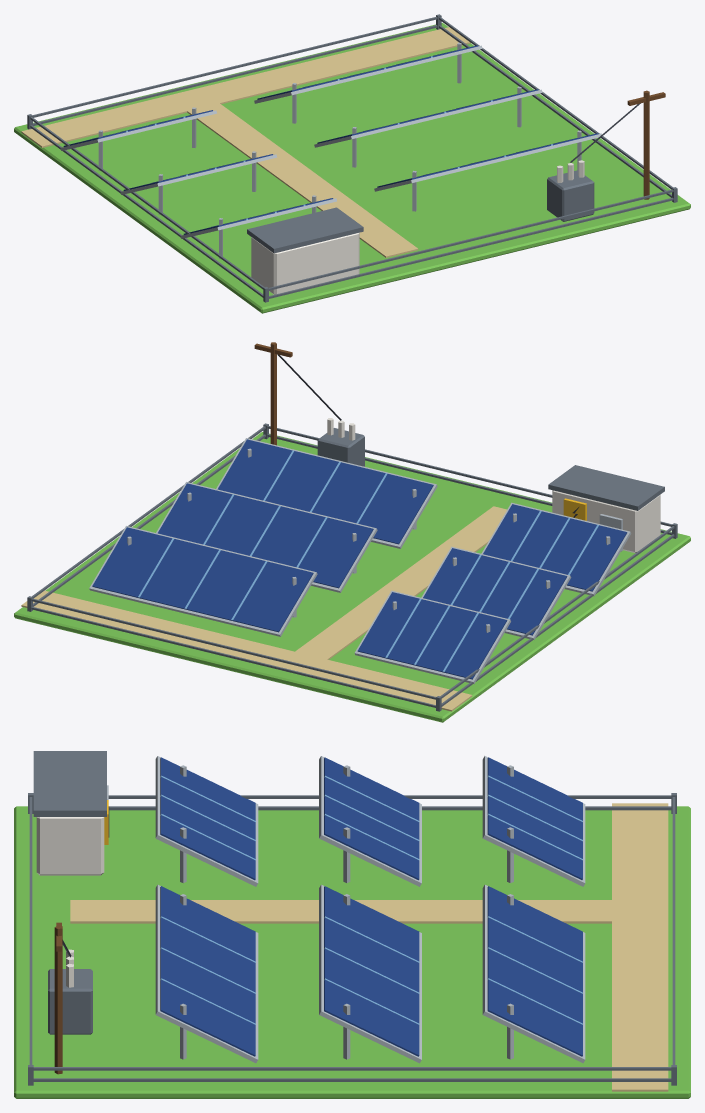
The model's file is solar_farm.glb.
The picture shows the model from 3 angles, top to bottom: view 1: azimuth 30°, elevation 25°; view 2: azimuth 150°, elevation 25°; view 3: azimuth 270°, elevation 25°; orthographic projection. The views are drawn at different scales.
Visible parts, largest first — view 1: corpo; view 2: corpo; view 3: corpo.
Boxes of the visible parts, bbox=[...] form: corpo: bbox=[14, 14, 690, 313]; corpo: bbox=[14, 342, 690, 722]; corpo: bbox=[14, 751, 690, 1098].
Size of the model in its own units: 6 by 1.5 by 6.
